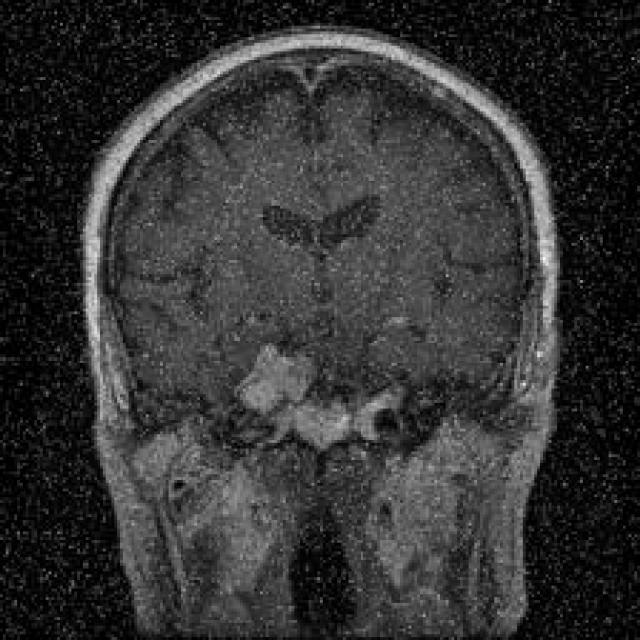meningioma_tumor: (211, 329, 333, 415)
